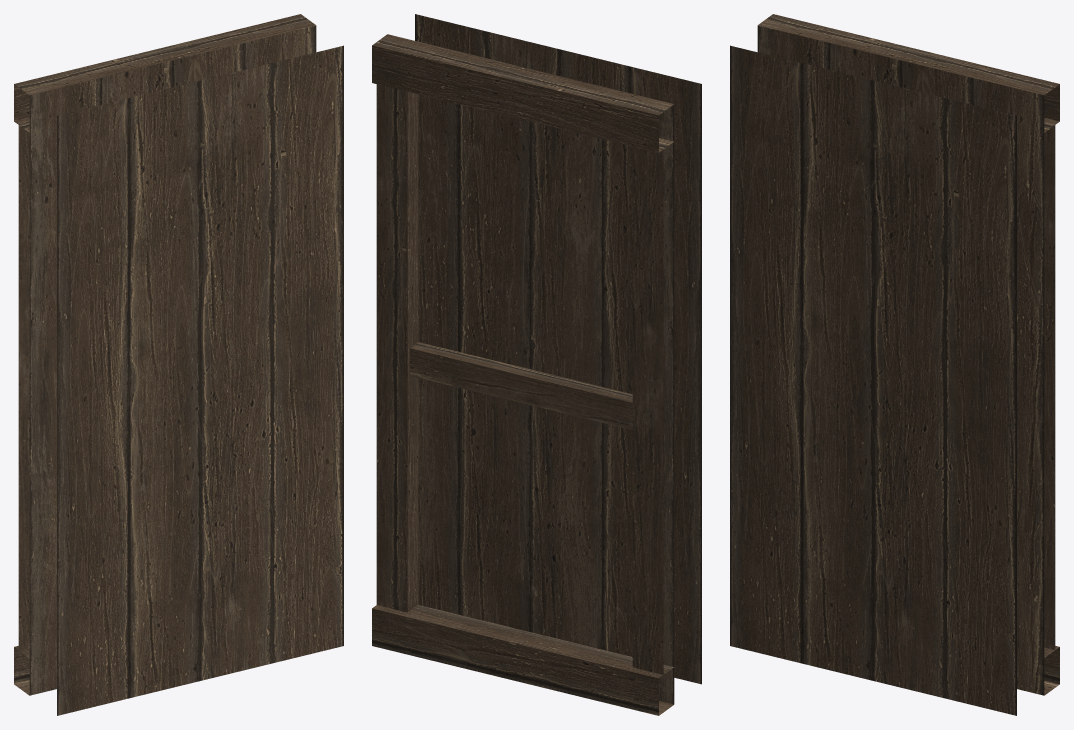
File: ARC1010273.fbx
The picture shows the model from 3 angles, left to right: view 1: azimuth 30°, elevation 25°; view 2: azimuth 150°, elevation 25°; view 3: azimuth 330°, elevation 25°; orthographic projection.
Parts seen in each view (by area): view 1: smARC1010273; view 2: smARC1010273; view 3: smARC1010273.
Part boxes in pixels (x1,y1,x2,y2): smARC1010273: [14, 14, 343, 715]; smARC1010273: [372, 14, 701, 715]; smARC1010273: [730, 14, 1059, 715].
Size of the model in its own units: 134 by 268 by 34.9.
Materials: 1 (1 with a texture image).
